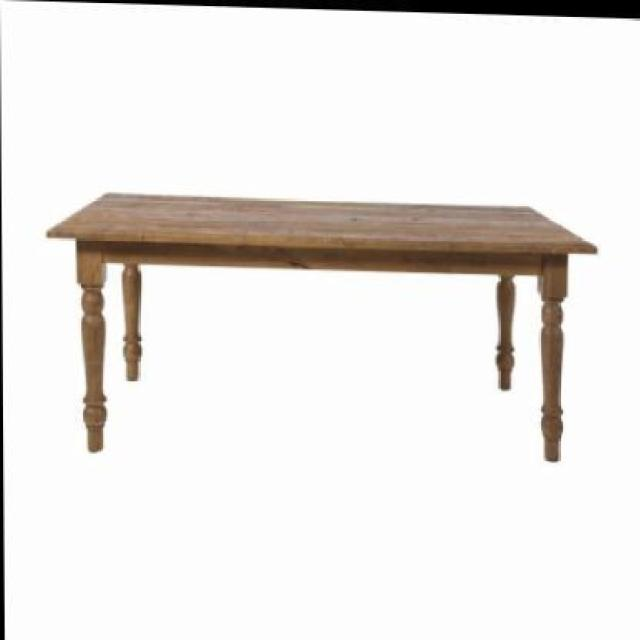tables: (45, 189, 597, 462)
